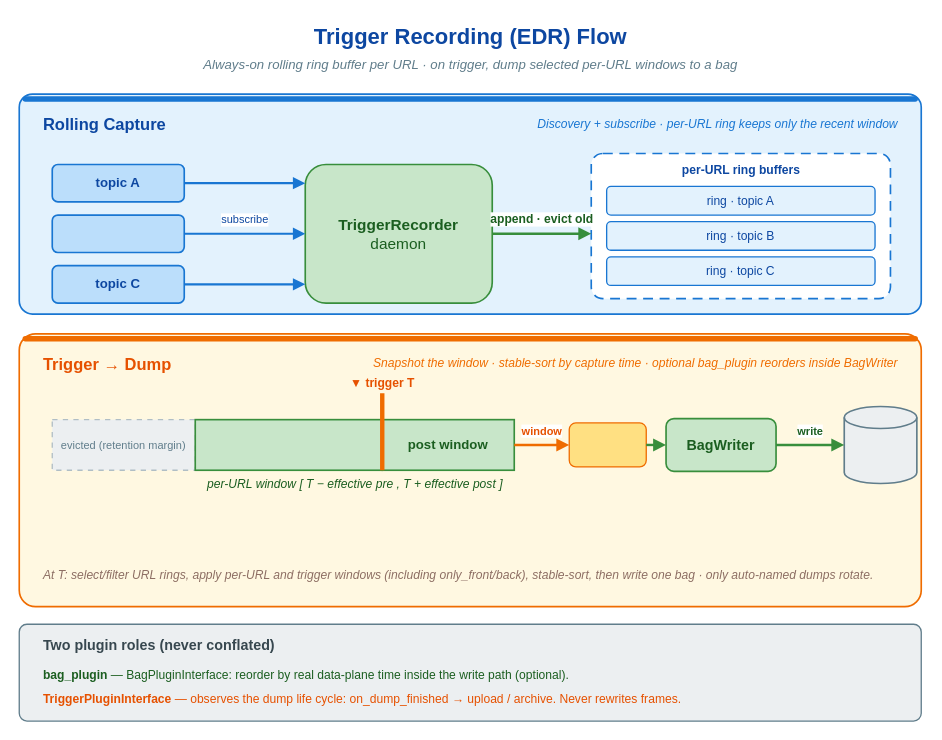
The diagram is 942 pixels wide and 740 high, and some of its shapes have lost their labels. Here are the shapes that lost their labels. From the top down, the centre of each, then its label:
[118,233]: topic B
[288,444]: pre window
[607,444]: stable sort
[880,444]: *.vdb / *.vcap auto-named: rotate
